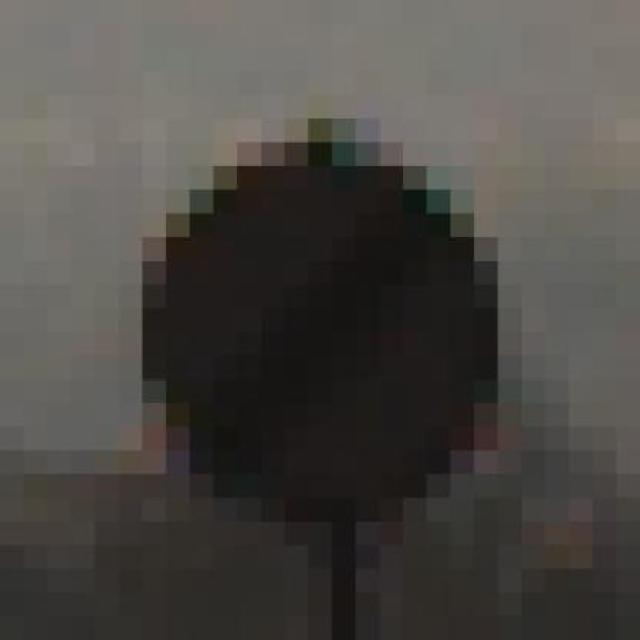End of all speed and passing limits: (72, 94, 546, 546)
